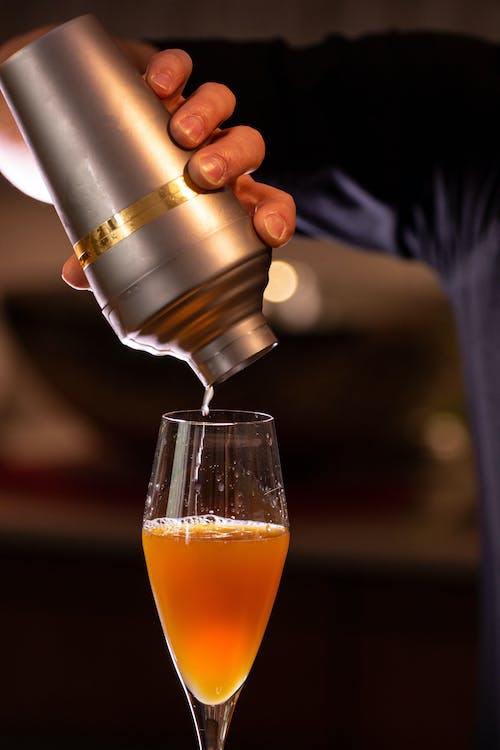alcohol: (138, 407, 292, 750)
